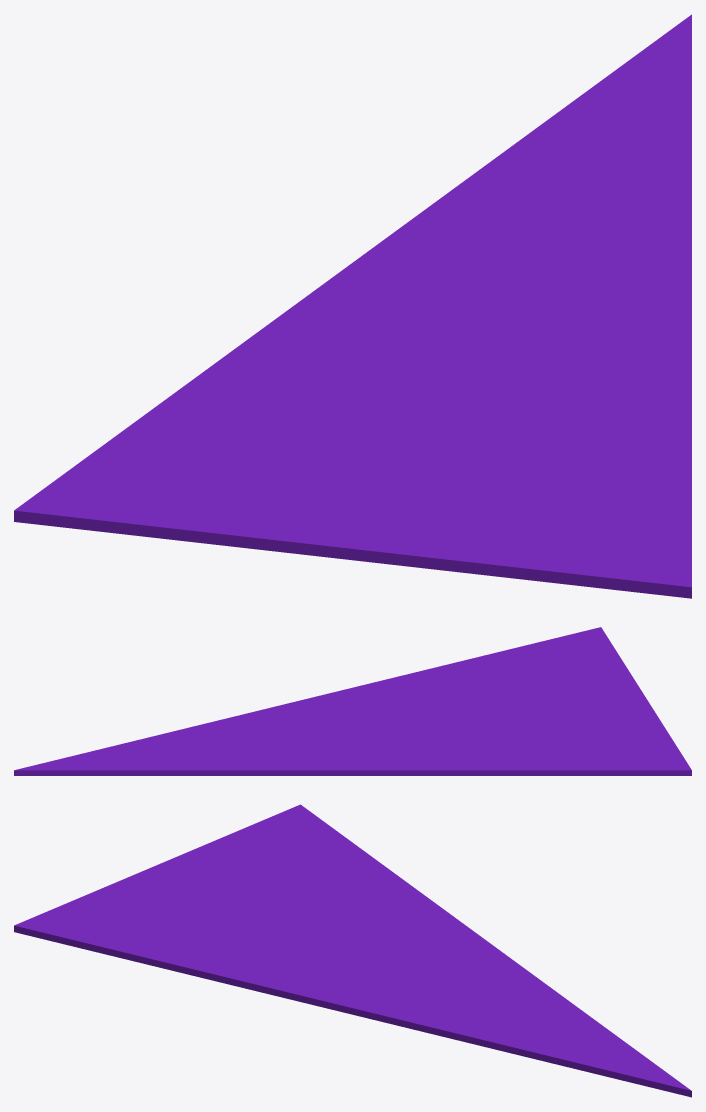
File: Slice_Sections.obj
3 views of the same model, one above another, from view 1: azimuth 30°, elevation 25°; view 2: azimuth 150°, elevation 25°; view 3: azimuth 270°, elevation 25° (orthographic). The views are drawn at different scales.
Size of the model in its own units: 93.53 by 1 by 93.53.
